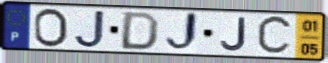C: (255, 14, 295, 58)
D: (118, 11, 162, 52)
J: (164, 10, 201, 54), (72, 9, 107, 50), (219, 16, 248, 53)
O: (33, 7, 70, 49)
